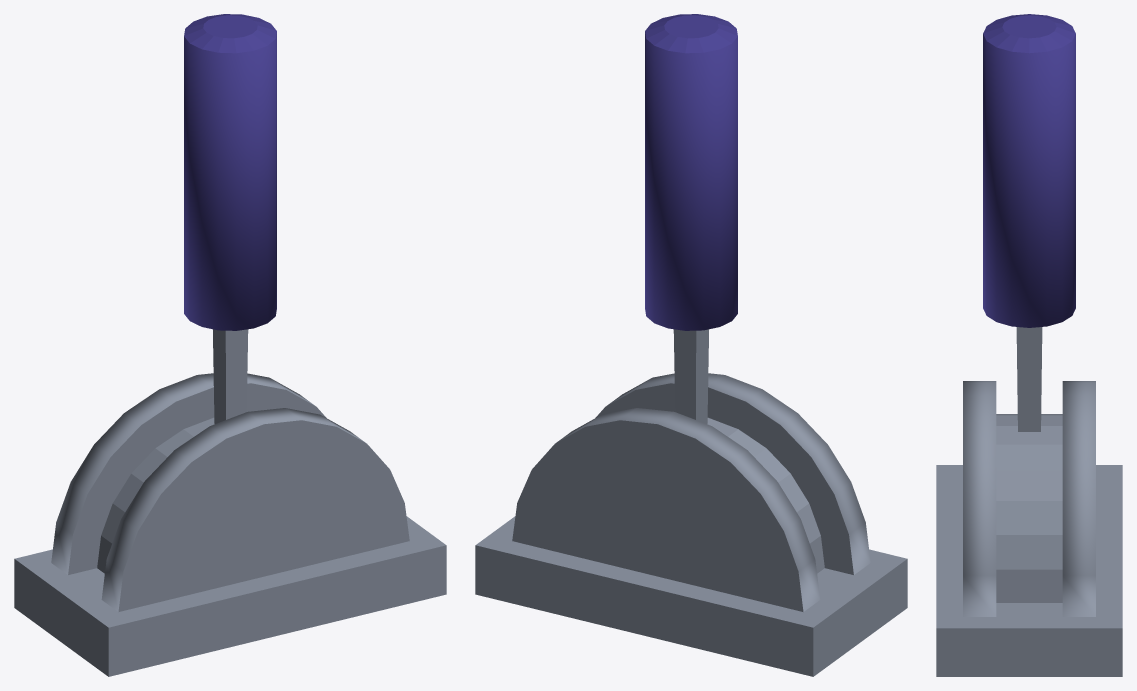
Rendered from lever.fbx.
The picture shows the model from 3 angles, left to right: view 1: azimuth 30°, elevation 25°; view 2: azimuth 150°, elevation 25°; view 3: azimuth 270°, elevation 25°; orthographic projection.
Visible parts, largest first — view 1: lever; view 2: lever; view 3: lever.
Boxes of the visible parts, box(x1,y1,x2,y2) form: lever: box(14, 14, 446, 676); lever: box(475, 14, 907, 676); lever: box(936, 14, 1122, 676).
Bounding box in the file's own units: 58 × 94.23 × 28.
